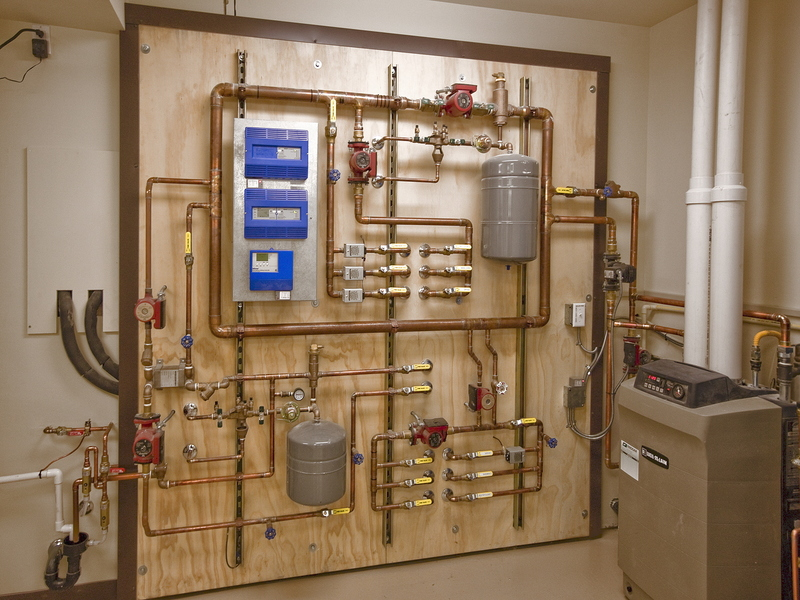valve: (466, 488, 510, 511), (309, 504, 357, 523), (179, 227, 197, 272), (398, 381, 441, 399), (551, 183, 589, 202), (462, 443, 498, 463), (437, 240, 479, 256), (436, 264, 478, 279), (437, 285, 476, 301), (398, 455, 441, 469), (389, 362, 435, 375), (405, 495, 440, 512), (378, 238, 409, 257), (399, 476, 437, 491), (374, 286, 411, 301), (505, 415, 543, 429), (460, 469, 503, 481), (378, 263, 409, 279)
